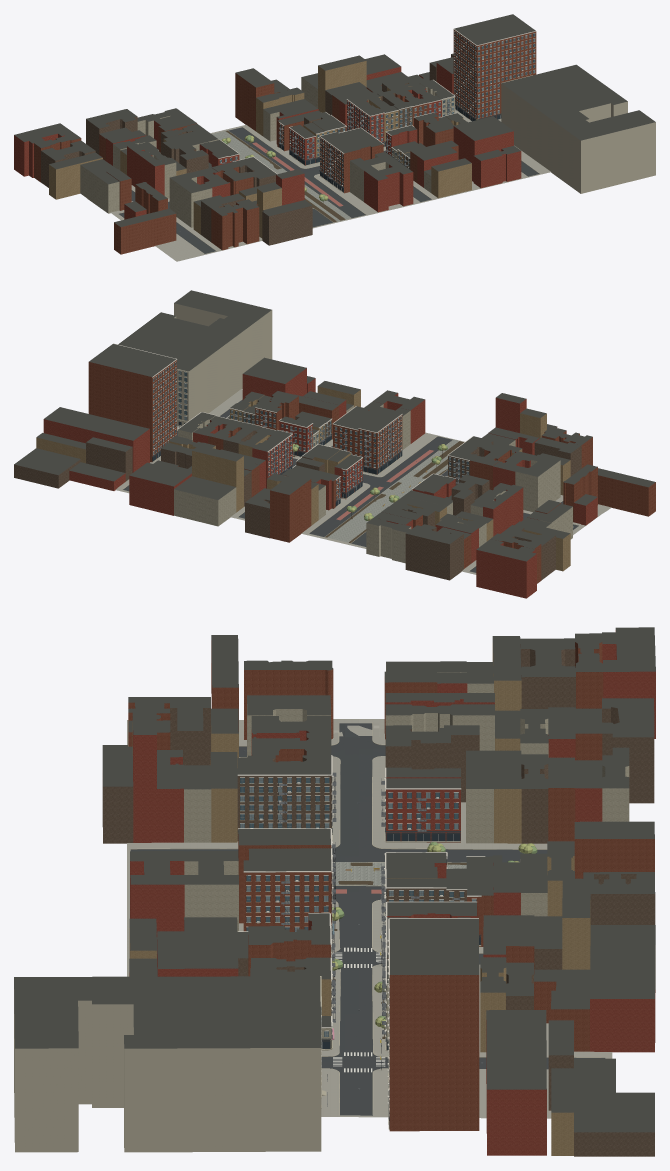
File: room.glb
3 views of the same model, one above another, from view 1: azimuth 30°, elevation 25°; view 2: azimuth 150°, elevation 25°; view 3: azimuth 270°, elevation 25° (orthographic). The views are drawn at different scales.
Visible parts, largest first — view 1: STATIC_broome-skate_S_1, STATIC_broome-skate_N_1, STATIC_broome-skate_N_-10, STATIC_broome-skate_S_-4, STATIC_broome-skate_S_-8, STATIC_broome-skate_S_-7, STATIC_broome-skate_N_-4, STATIC_broome-skate_N_-8, STATIC_broome-skate_N_-2, STATIC_broome-skate_S_-2, STATIC_broome-skate_S_-1, STATIC_broome-skate_N_-7 (+12 smaller); view 2: STATIC_broome-skate_N_1, STATIC_broome-skate_S_1, STATIC_broome-skate_N_-2, STATIC_broome-skate_N_-4, STATIC_broome-skate_N_-8, STATIC_broome-skate_N_-10, STATIC_broome-skate_S_-4, STATIC_broome-skate_N_-7, STATIC_broome-skate_S_-8, STATIC_broome-skate_S_-7, STATIC_broome-skate_N_-1, STATIC_broome-skate_S_-2 (+12 smaller); view 3: STATIC_broome-skate_S_1, STATIC_broome-skate_N_1, STATIC_broome-skate_S_-7, STATIC_broome-skate_N_-7, STATIC_broome-skate_N_-4, STATIC_broome-skate_S_-4, STATIC_broome-skate_N_-8, STATIC_broome-skate_N_-1, STATIC_broome-skate_N_-10, STATIC_broome-skate_S_-8, SURFACE_road_001, STATIC_broome-skate_N_-2 (+19 smaller).
Part boxes in pixels (x1,y1,x2,y2): STATIC_broome-skate_S_1: (501, 64, 655, 193); STATIC_broome-skate_N_1: (436, 14, 536, 121); STATIC_broome-skate_N_-10: (14, 123, 119, 213); STATIC_broome-skate_S_-4: (319, 127, 413, 212); STATIC_broome-skate_S_-8: (169, 167, 259, 250); STATIC_broome-skate_S_-7: (212, 156, 312, 245); STATIC_broome-skate_N_-4: (235, 68, 346, 163); STATIC_broome-skate_N_-8: (86, 109, 186, 198); STATIC_broome-skate_N_-2: (301, 55, 427, 147); STATIC_broome-skate_S_-2: (410, 112, 471, 198); STATIC_broome-skate_S_-1: (445, 113, 521, 188); STATIC_broome-skate_N_-7: (137, 108, 228, 173); STATIC_broome-skate_N_1: (14, 343, 177, 488); STATIC_broome-skate_S_1: (118, 290, 272, 426); STATIC_broome-skate_N_-2: (174, 419, 275, 526); STATIC_broome-skate_N_-4: (245, 444, 351, 542); STATIC_broome-skate_N_-8: (405, 483, 523, 580); STATIC_broome-skate_N_-10: (476, 503, 572, 598); STATIC_broome-skate_S_-4: (332, 390, 425, 474); STATIC_broome-skate_N_-7: (366, 474, 489, 563); STATIC_broome-skate_S_-8: (493, 427, 592, 512); STATIC_broome-skate_S_-7: (447, 393, 557, 490); STATIC_broome-skate_N_-1: (129, 412, 230, 515); STATIC_broome-skate_S_-2: (242, 381, 360, 439); STATIC_broome-skate_S_1: (14, 976, 321, 1152); STATIC_broome-skate_N_1: (387, 918, 654, 1156); STATIC_broome-skate_S_-7: (102, 712, 336, 843); STATIC_broome-skate_N_-7: (381, 725, 629, 843); STATIC_broome-skate_N_-4: (381, 821, 655, 946); STATIC_broome-skate_S_-4: (130, 828, 335, 943); STATIC_broome-skate_N_-8: (385, 693, 654, 803); STATIC_broome-skate_N_-1: (382, 957, 655, 1052); STATIC_broome-skate_N_-10: (386, 627, 655, 738); STATIC_broome-skate_S_-8: (128, 695, 331, 767); SURFACE_road_001: (321, 886, 605, 1115); STATIC_broome-skate_N_-2: (382, 878, 655, 1011).
Size of the model in its own units: 311 by 49.7 by 183.
32 materials, 11 textured.
